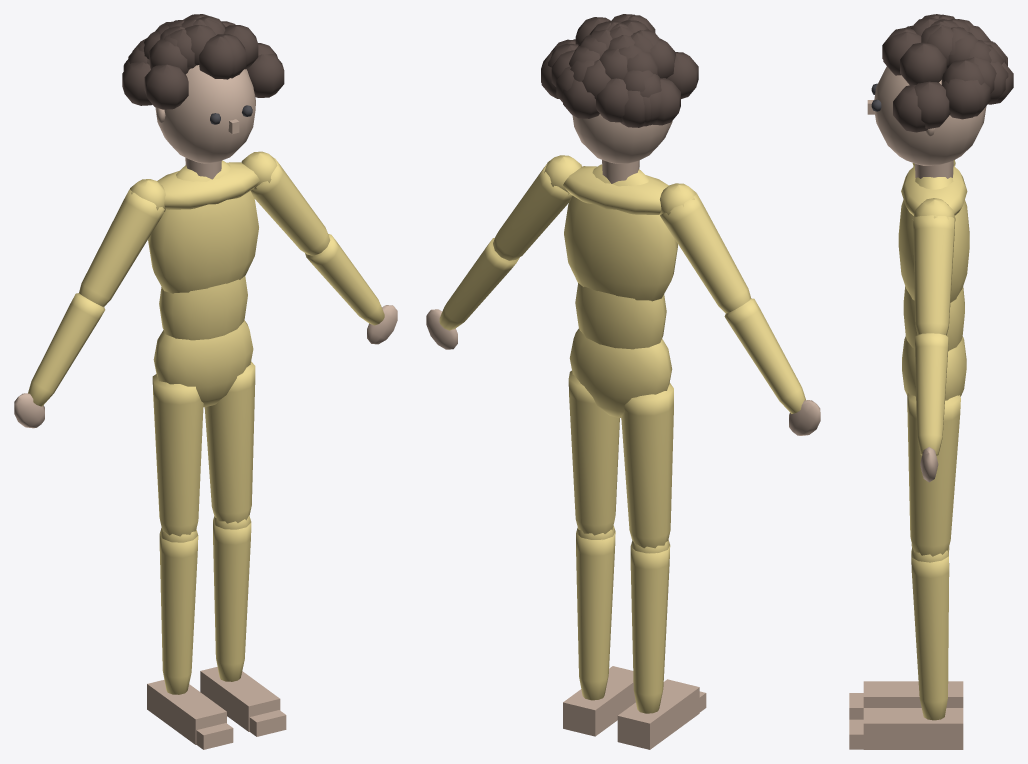
Rendered from Wren.glb.
The picture shows the model from 3 angles, left to right: view 1: azimuth 30°, elevation 25°; view 2: azimuth 150°, elevation 25°; view 3: azimuth 270°, elevation 25°; orthographic projection. The views are drawn at different scales.
Visible parts, largest first — view 1: Wren; view 2: Wren; view 3: Wren.
Boxes of the visible parts, x1,y1,x2,y2 form: Wren: (14, 14, 397, 749); Wren: (426, 14, 820, 749); Wren: (849, 14, 1013, 749).
Bounding box in the file's own units: 0.7519 × 1.29 × 0.272.
